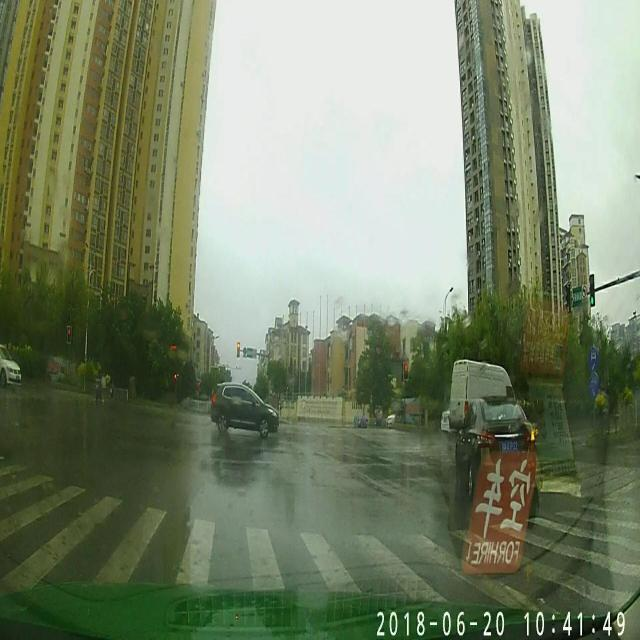car: (458, 397, 536, 502), (451, 359, 530, 436), (210, 379, 280, 440), (0, 337, 21, 390)
